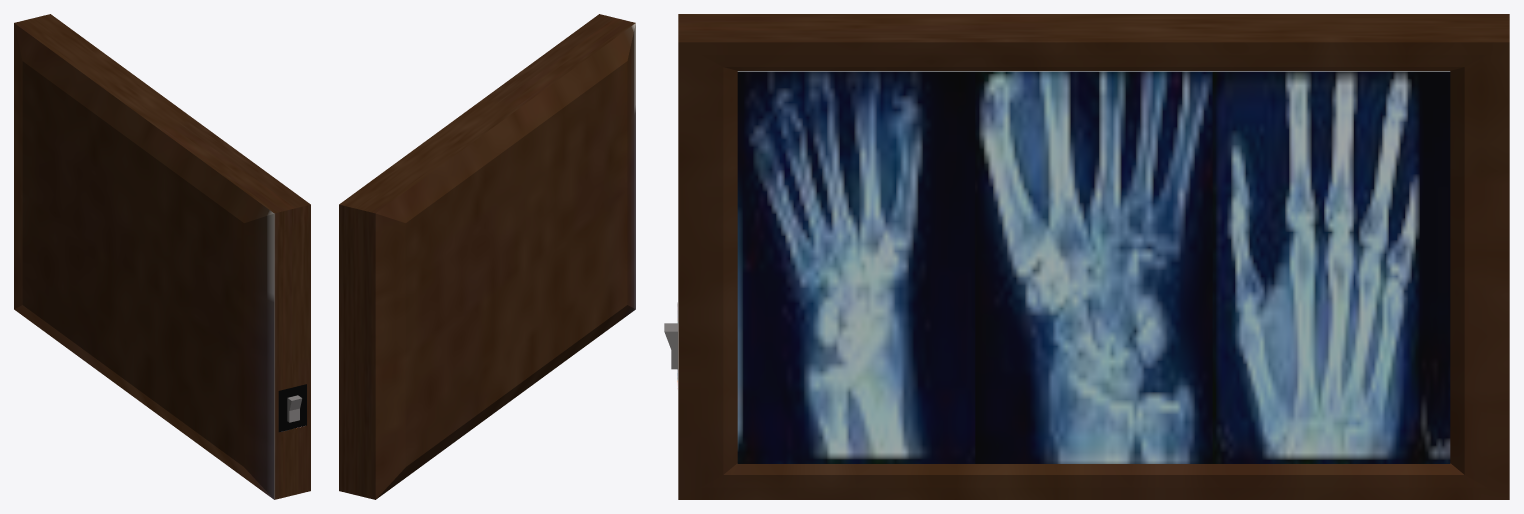
File: X Ray Light Box.fbx
The picture shows the model from 3 angles, left to right: view 1: azimuth 30°, elevation 25°; view 2: azimuth 150°, elevation 25°; view 3: azimuth 270°, elevation 25°; orthographic projection. The views are drawn at different scales.
Visible parts, largest first — view 1: Cube, Plane, Cube.001; view 2: Cube; view 3: Cube, Cube.003, Cube.005, Cube.004.
Part boxes in pixels (<box>): Cube: <box>14,14,310,499</box>; Plane: <box>278,384,306,432</box>; Cube.001: <box>287,395,302,422</box>; Cube: <box>339,14,635,499</box>; Cube: <box>678,14,1509,499</box>; Cube.003: <box>1212,71,1450,463</box>; Cube.005: <box>737,71,975,463</box>; Cube.004: <box>975,71,1212,463</box>.
Size of the model in its own units: 0.2291 by 1.32 by 2.21.
